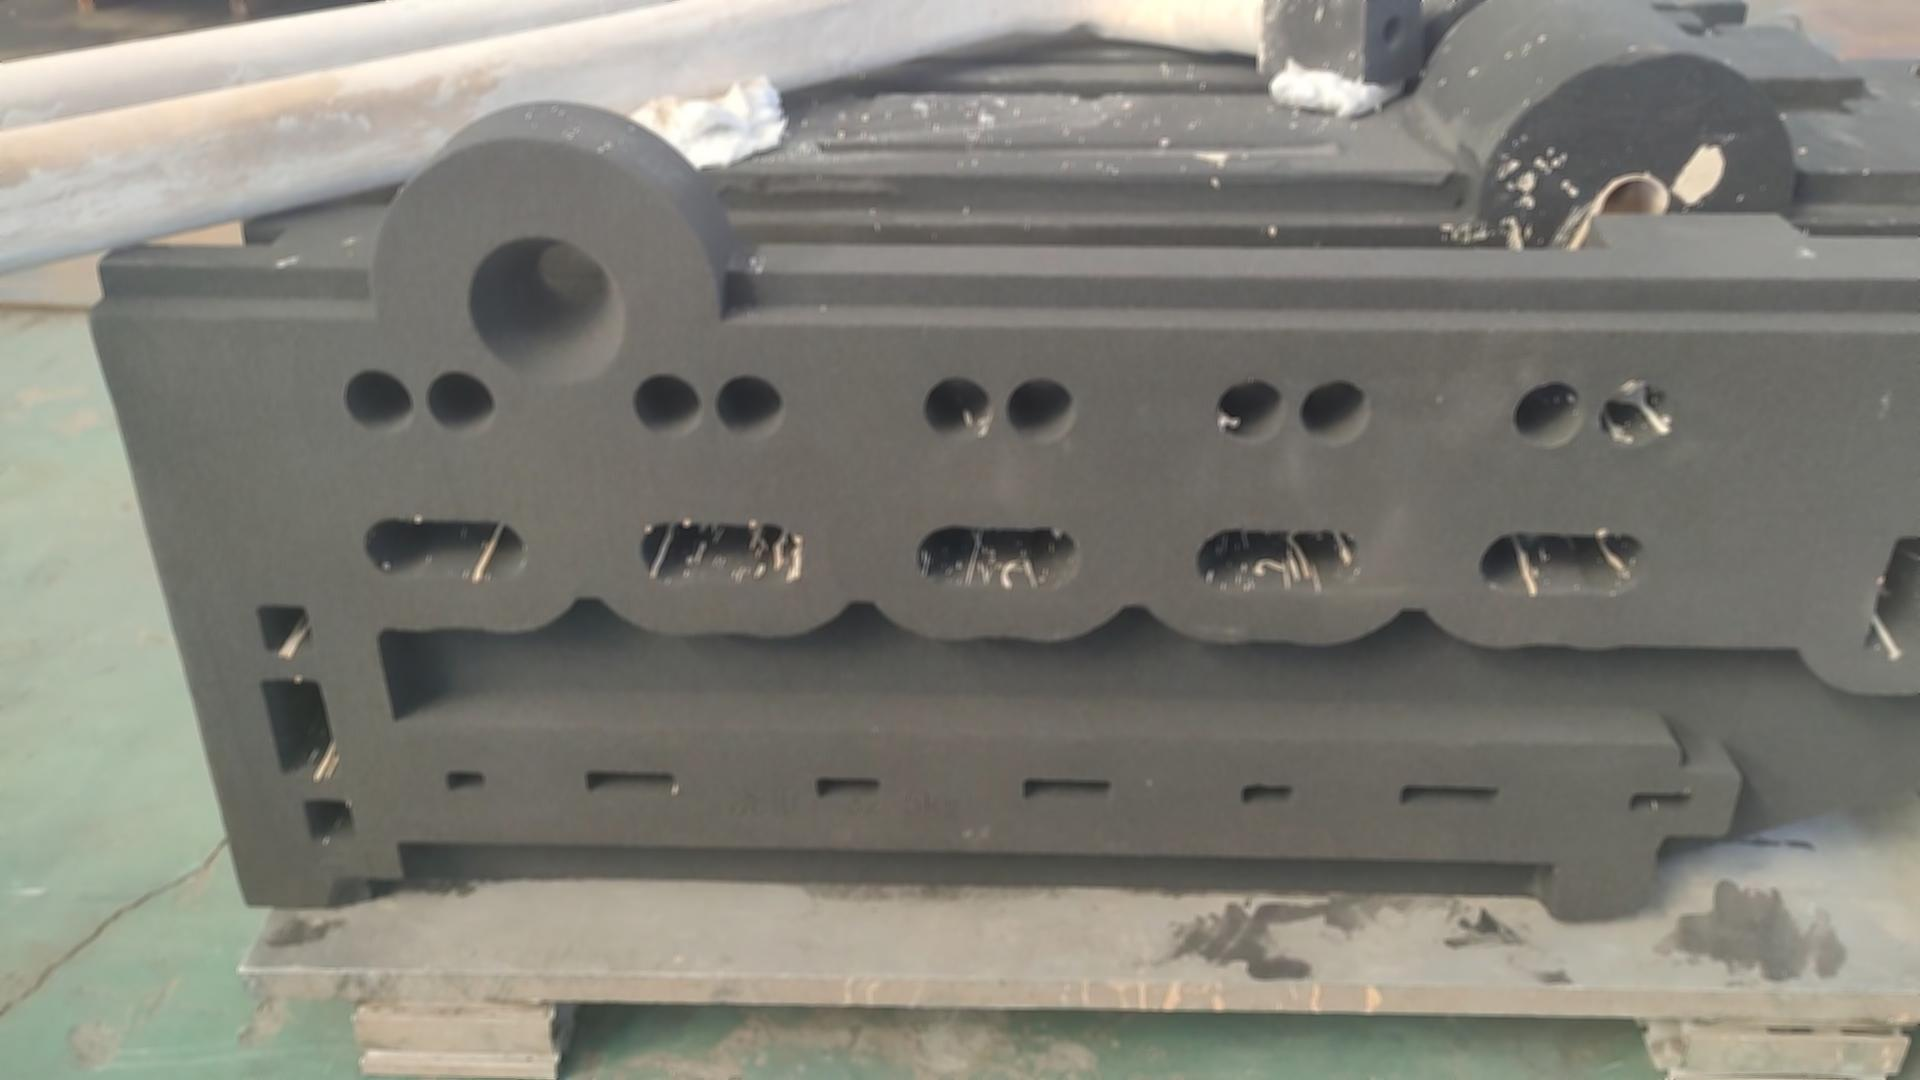pouring hole: (465, 235, 622, 386)
